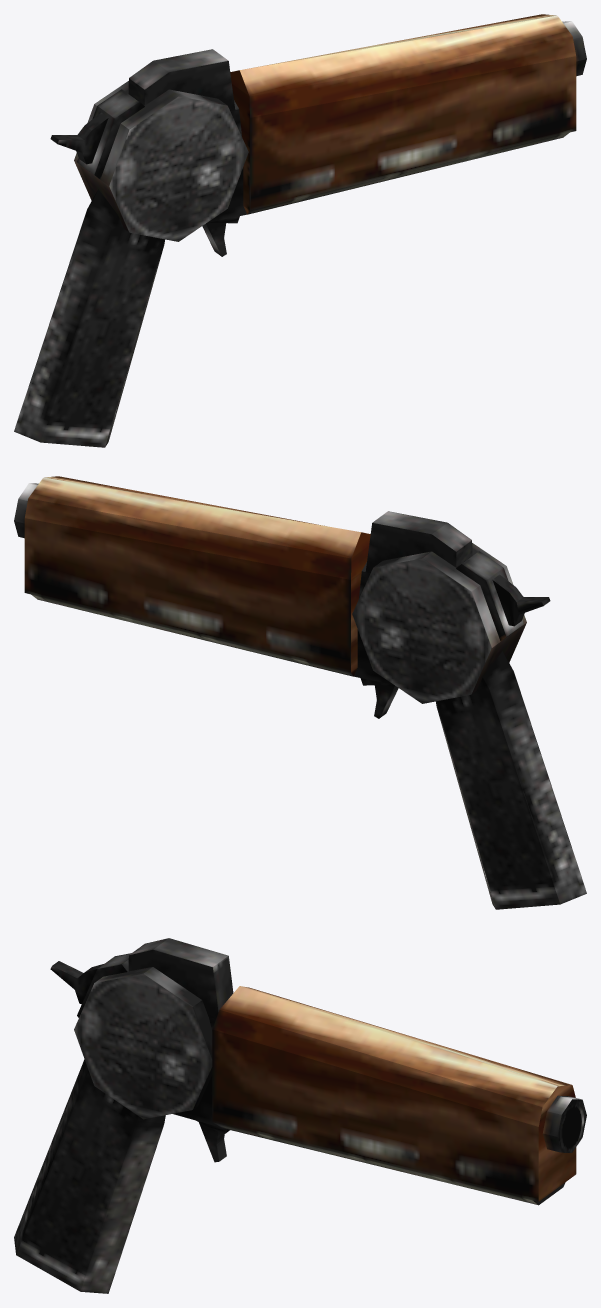
File: ninja_assault.ico.obj
3 views of the same model, one above another, from view 1: azimuth 30°, elevation 25°; view 2: azimuth 150°, elevation 25°; view 3: azimuth 330°, elevation 25° (orthographic).
Bounding box in the file's own units: 4.63 × 2.88 × 0.5388.
Materials: 1 (1 with a texture image).
